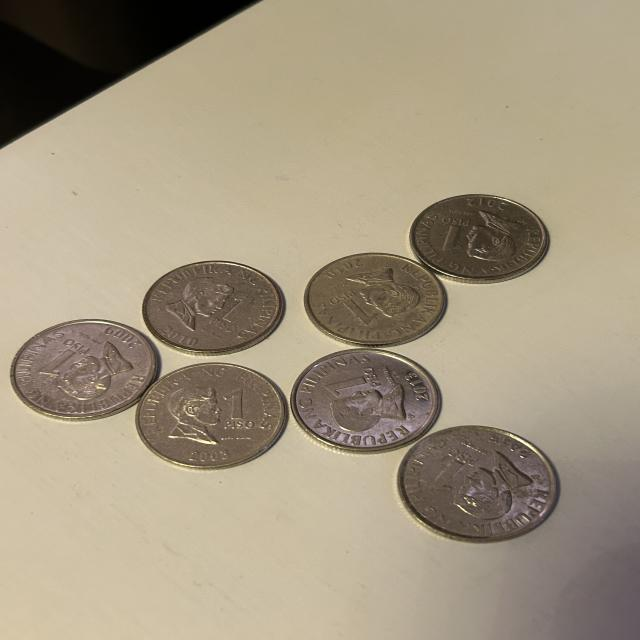1_Old_Front: (36, 335, 90, 385), (323, 288, 380, 332), (433, 442, 476, 500), (423, 212, 466, 262), (207, 290, 252, 335), (320, 369, 388, 398), (220, 388, 260, 436)
